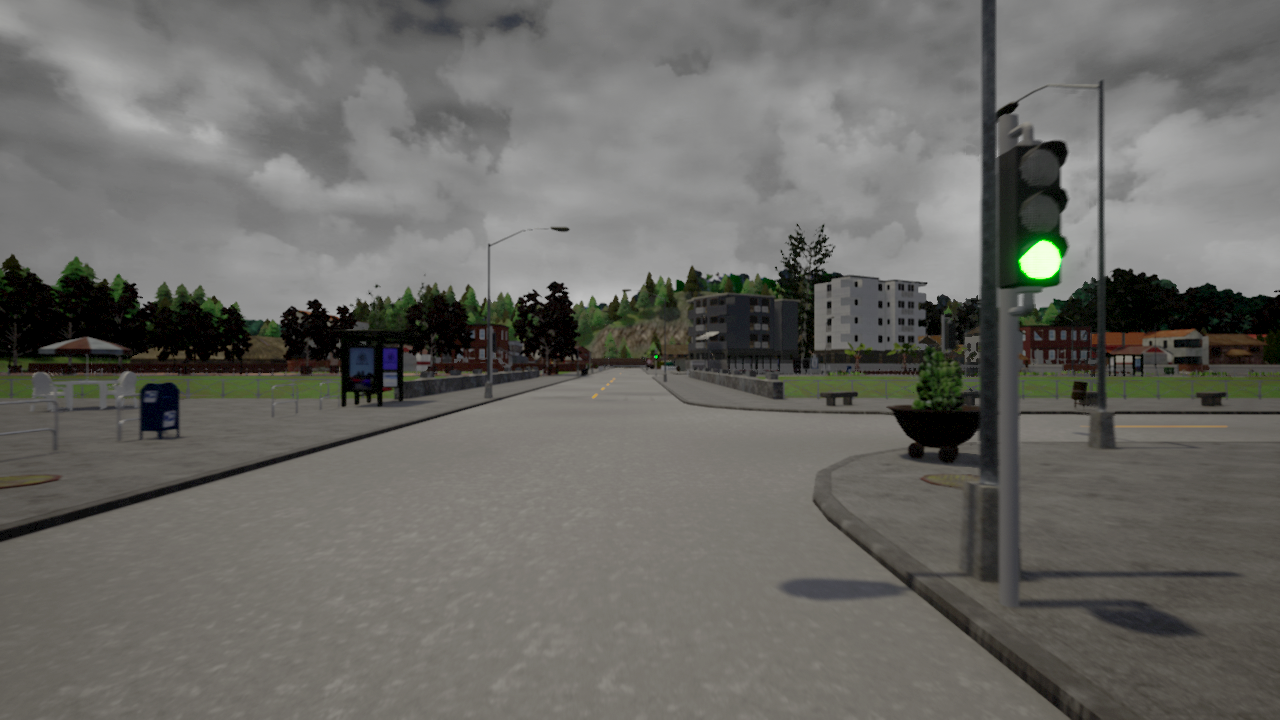green: (1005, 142, 1068, 290)
